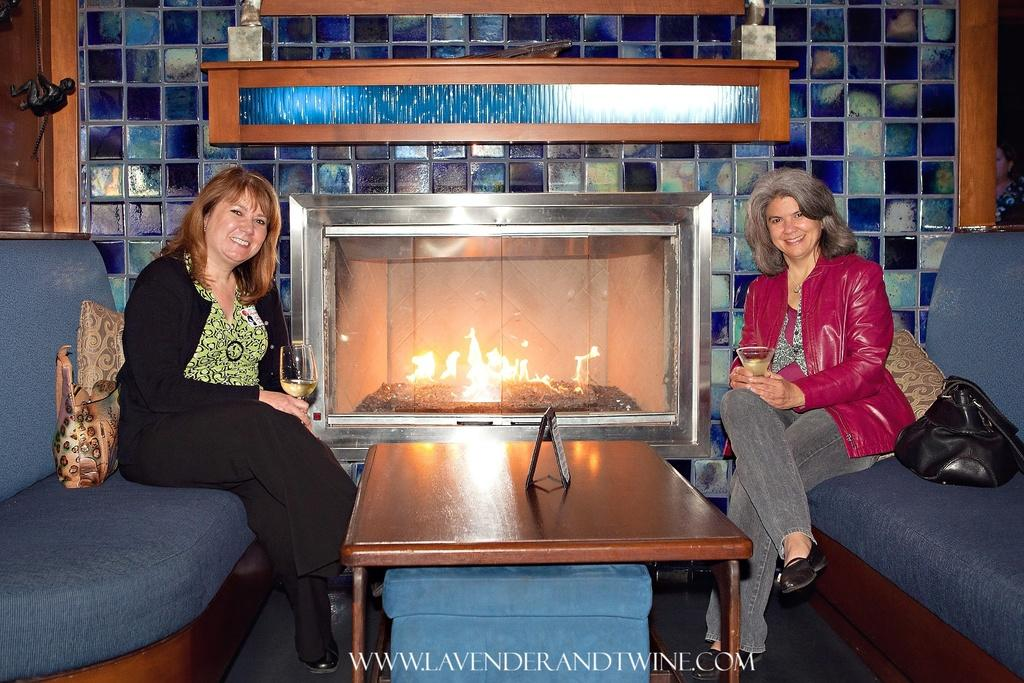Fire: (351, 306, 624, 410)
